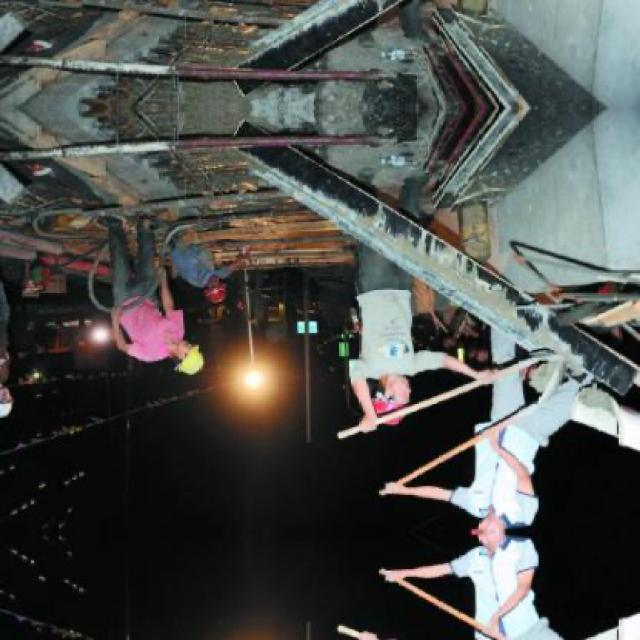con casco: (365, 358, 424, 433), (162, 327, 220, 391), (202, 276, 240, 319)
